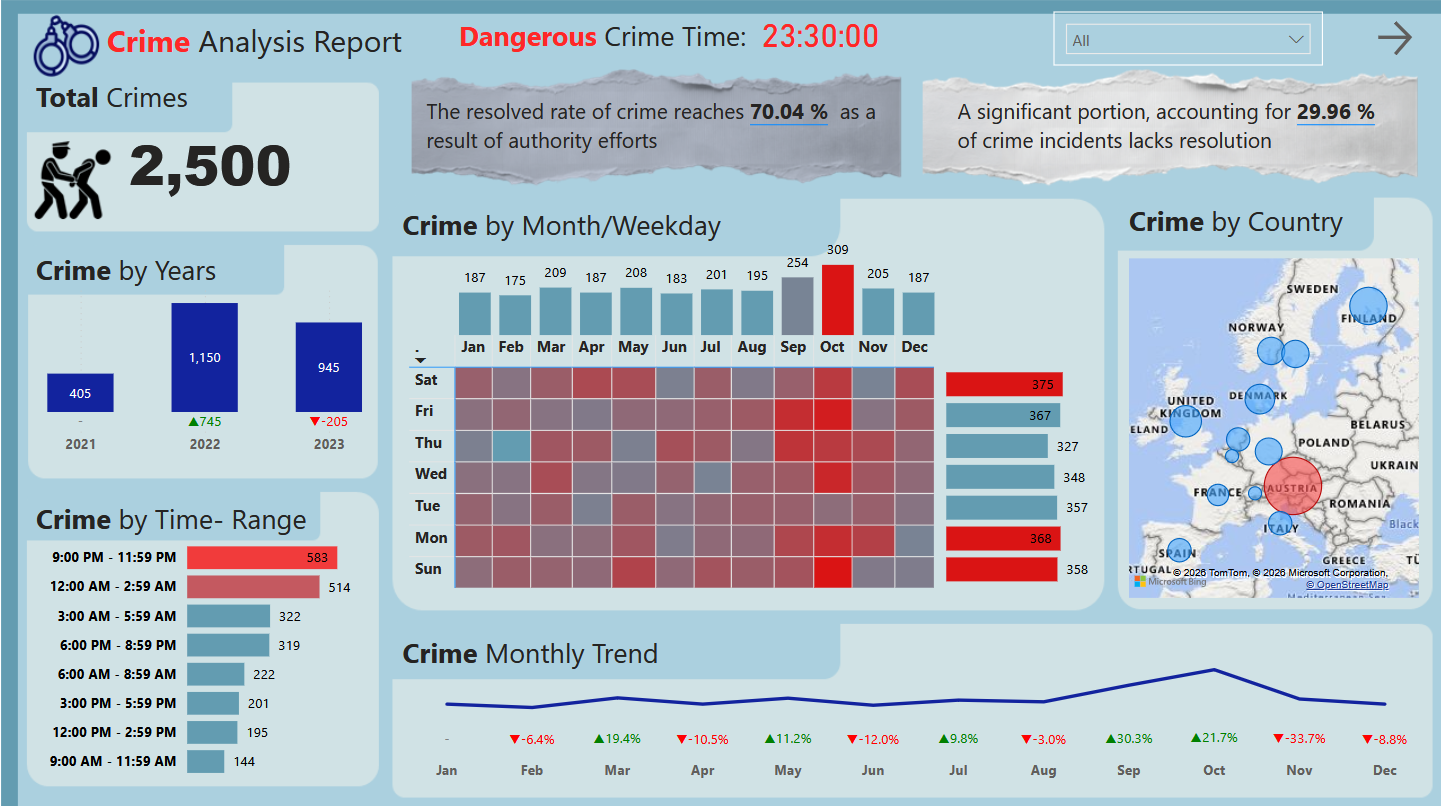

The dashboard page shown, as its layout file describes it:
{"tool":"powerbi","page":{"name":"Report 1","canvas":[1280,720],"ordinal":0},"visuals":[{"type":"card","fields":{"Values":["calculated_table.Total_Crimes"]},"box":[35.7,89.2,299.1,110],"z":0},{"type":"columnChart","fields":{"Category":["Date_Table.Year"],"Y":["calculated_table.blank_to_year","calculated_table.Total_Crimes"]},"box":[35.7,241.5,289.5,170.2],"z":1000},{"type":"lineChart","fields":{"Category":["Date_Table.Month"],"Y":["calculated_table.blank_to_month","calculated_table.Total_Crimes"]},"box":[359.5,557.1,902.9,144.1],"z":2000},{"type":"clusteredBarChart","fields":{"Category":["Crimes Data.Time_Group"],"Y":["calculated_table.Total_Crimes"]},"box":[37,461.1,289.5,240.1],"z":3000},{"type":"pivotTable","fields":{"Rows":["Date_Table.Weekday"],"Columns":["Date_Table.Month"],"Values":["calculated_table.Total_Crimes"]},"box":[356.8,292.3,485.8,242.9],"z":4000},{"type":"clusteredColumnChart","fields":{"Category":["Date_Table.Month"],"Y":["calculated_table.Total_Crimes"]},"box":[400.7,197.6,432.2,105.7],"z":5000},{"type":"clusteredBarChart","fields":{"Category":["Date_Table.."],"Y":["calculated_table.Total_Crimes"]},"box":[832.9,317,137.2,204.5],"z":6000},{"type":"textbox","box":[371.9,79.6,422.6,64.5],"z":7000},{"type":"textbox","box":[842.5,79.6,381.5,64.5],"z":8000},{"type":"card","fields":{"Values":["Min(Crimes Data.Crime Time)"]},"box":[620.2,9.6,212.7,39.8],"z":9000},{"type":"map","fields":{"Category":["Crimes Data.Country"],"Size":["calculated_table.Total_Crimes"]},"box":[994.9,223.7,267.6,311.5],"z":10000},{"type":"slicer","fields":{"Values":["Crime Types.Crime"]},"box":[933.1,9.6,238.8,48],"z":11000},{"type":"textbox","box":[400.7,9.6,278.6,50.8],"z":12000},{"type":"textbox","box":[89.2,12.3,296.4,50.8],"z":13000},{"type":"textbox","box":[26.1,64.5,155.1,49.4],"z":14000},{"type":"textbox","box":[26.1,216.8,179.8,49.4],"z":15000},{"type":"textbox","box":[26.1,437.7,255.2,46.7],"z":16000},{"type":"textbox","box":[351.3,177,376,46.7],"z":17000},{"type":"textbox","box":[351.3,557.1,376,46.7],"z":18000},{"type":"textbox","box":[994.9,174.3,219.6,46.7],"z":19000},{"type":"actionButton","box":[1214.9,14.5,43.4,39.8],"z":19001}]}

Visuals, with their boxes in screenshot pixels (x1, y1, x2, y2), scaled from the page's 1280x720 canvas onto the 1441x806 screenshot:
card - calculated_table.Total_Crimes: region(40, 100, 377, 223)
columnChart - Date_Table.Year x calculated_table.blank_to_year: region(40, 270, 366, 461)
lineChart - Date_Table.Month x calculated_table.blank_to_month: region(405, 624, 1421, 785)
clusteredBarChart - Crimes Data.Time_Group x calculated_table.Total_Crimes: region(42, 516, 368, 785)
pivotTable - Date_Table.Weekday x Date_Table.Month: region(402, 327, 949, 599)
clusteredColumnChart - Date_Table.Month x calculated_table.Total_Crimes: region(451, 221, 938, 340)
clusteredBarChart - Date_Table.. x calculated_table.Total_Crimes: region(938, 355, 1092, 584)
textbox: region(419, 89, 894, 161)
textbox: region(948, 89, 1378, 161)
card - Min(Crimes Data.Crime Time): region(698, 11, 938, 55)
map - Crimes Data.Country x calculated_table.Total_Crimes: region(1120, 250, 1421, 599)
slicer - Crime Types.Crime: region(1050, 11, 1319, 64)
textbox: region(451, 11, 765, 68)
textbox: region(100, 14, 434, 71)
textbox: region(29, 72, 204, 128)
textbox: region(29, 243, 232, 298)
textbox: region(29, 490, 317, 542)
textbox: region(395, 198, 819, 250)
textbox: region(395, 624, 819, 676)
textbox: region(1120, 195, 1367, 247)
actionButton: region(1368, 16, 1417, 61)
